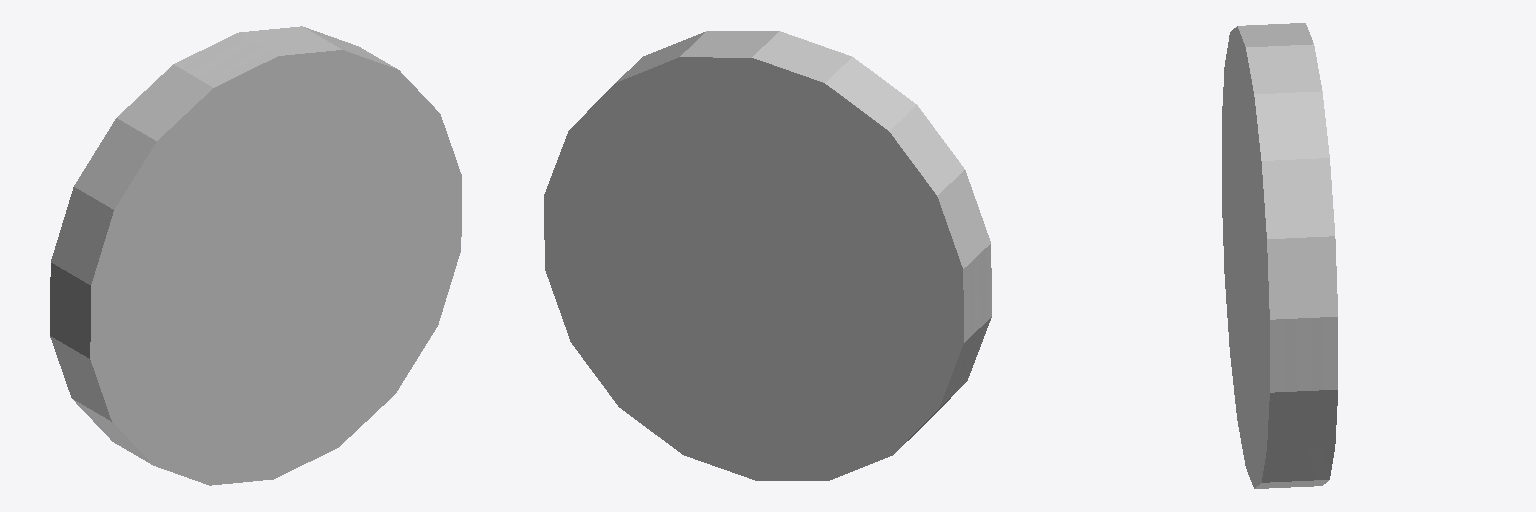
Rendered from coin.obj.
3 views of the same model, side by side, from view 1: azimuth 30°, elevation 25°; view 2: azimuth 150°, elevation 25°; view 3: azimuth 270°, elevation 25° (orthographic).
Parts seen in each view (by area): view 1: Cylinder001; view 2: Cylinder001; view 3: Cylinder001.
Boxes of the visible parts, box(x1,y1,x2,y2) form: Cylinder001: box(50, 26, 461, 485); Cylinder001: box(544, 31, 991, 480); Cylinder001: box(1222, 23, 1337, 488).
Bounding box in the file's own units: 1.14 × 1.14 × 0.2864.